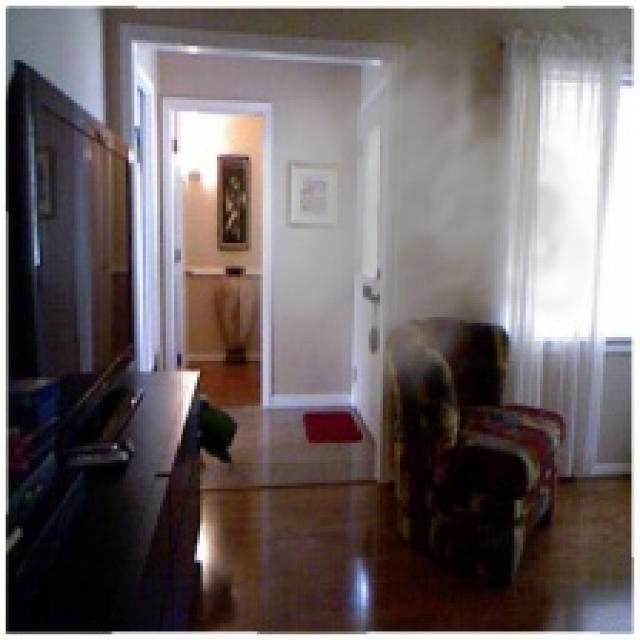smoke: (240, 17, 609, 414)
